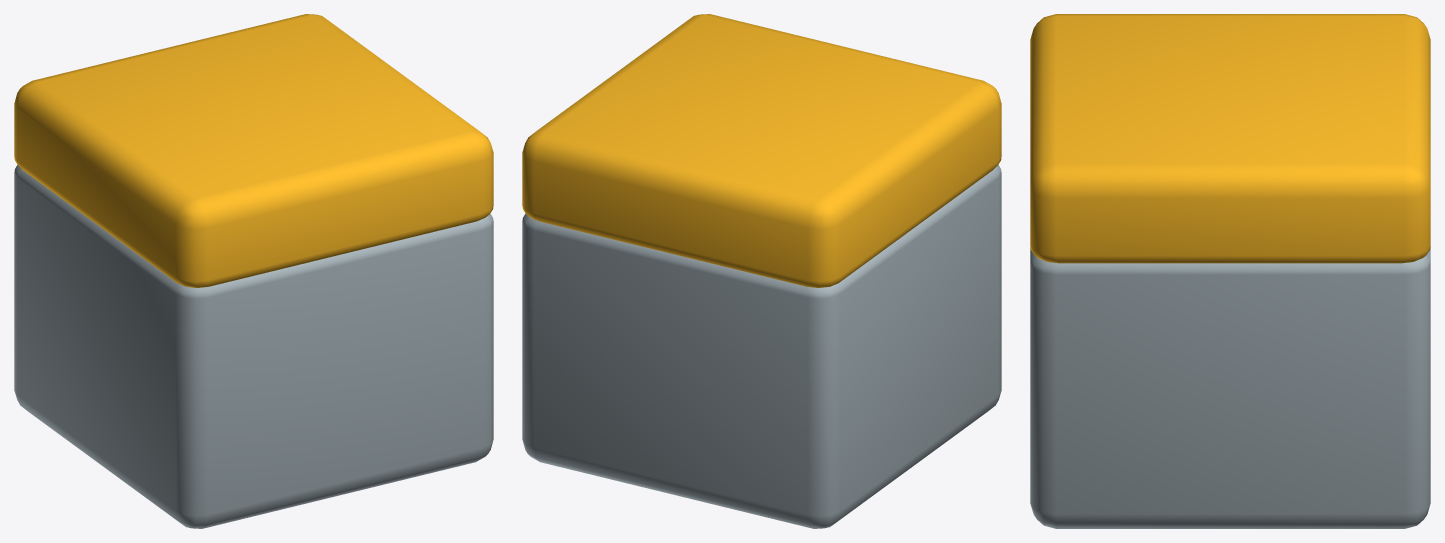
The model's file is tileHigh_teamYellow-col.glb.
3 renders of one model, left to right at view 1: azimuth 30°, elevation 25°; view 2: azimuth 150°, elevation 25°; view 3: azimuth 270°, elevation 25°, orthographic. The views are drawn at different scales.
Visible parts, largest first — view 1: tileHigh_teamYellow-col; view 2: tileHigh_teamYellow-col; view 3: tileHigh_teamYellow-col.
Boxes of the visible parts, x1=… form: tileHigh_teamYellow-col: x1=14, y1=14, x2=493, y2=528; tileHigh_teamYellow-col: x1=522, y1=14, x2=1001, y2=528; tileHigh_teamYellow-col: x1=1030, y1=14, x2=1430, y2=528.
Size of the model in its own units: 2 by 2 by 2.
